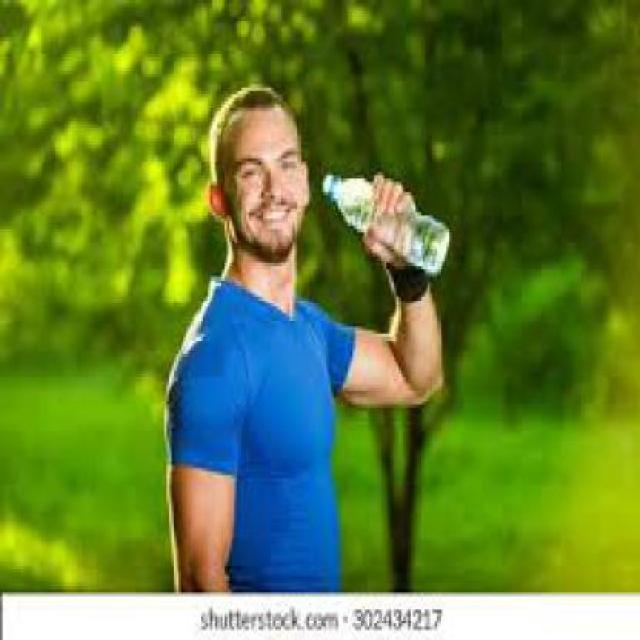Drinking: (307, 141, 459, 297)
